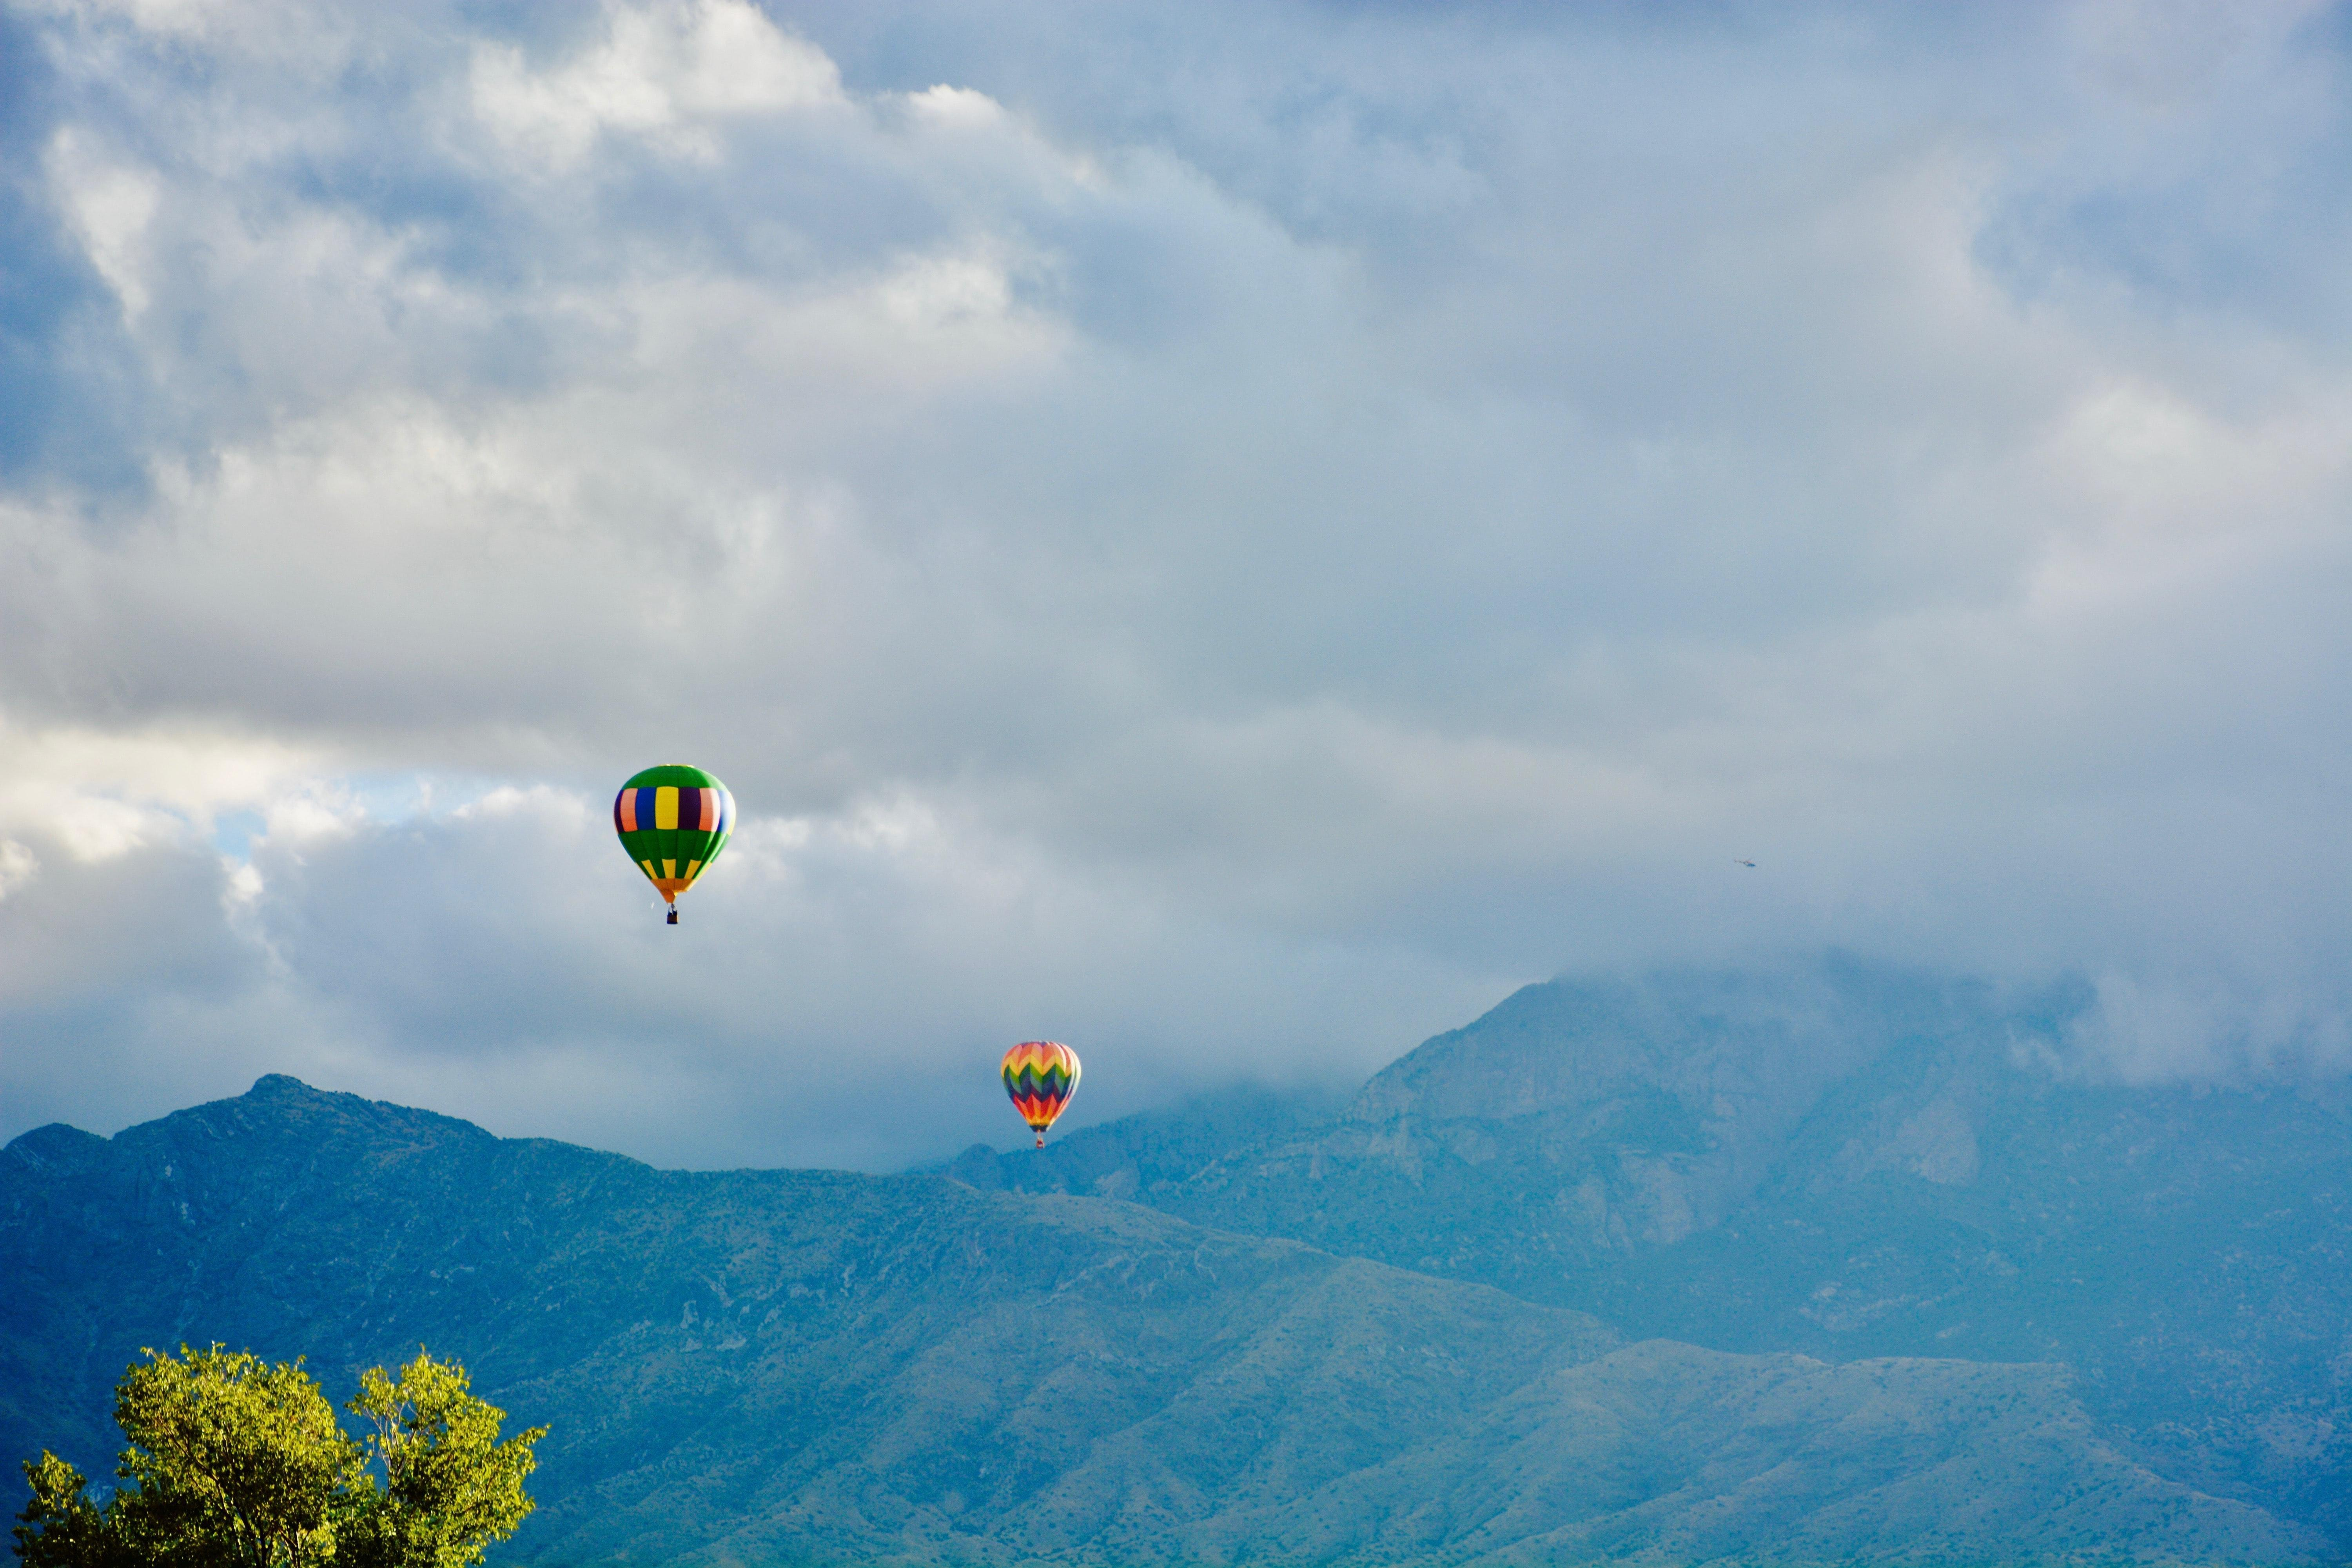hot air ballon: (605, 746, 740, 936), (1010, 1024, 1083, 1153)
